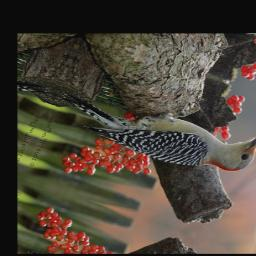Woodpecker: (43, 59, 256, 190)
